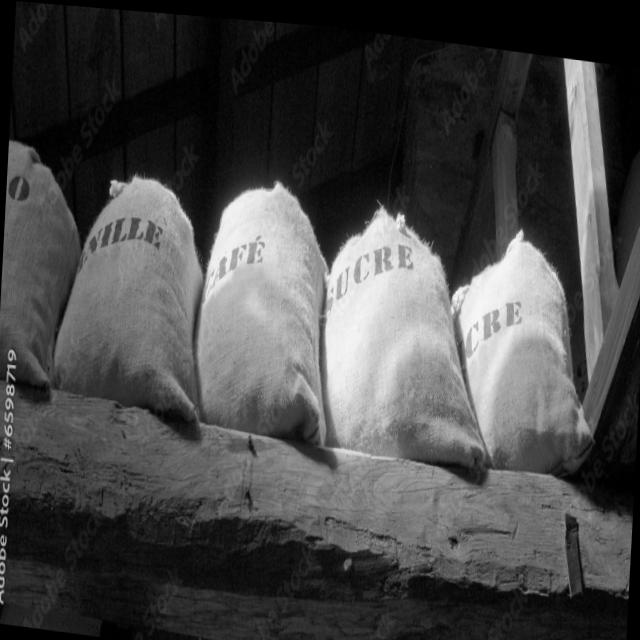sack: (314, 193, 498, 467), (190, 166, 340, 438), (446, 213, 604, 470), (50, 164, 208, 414), (0, 138, 86, 396)
